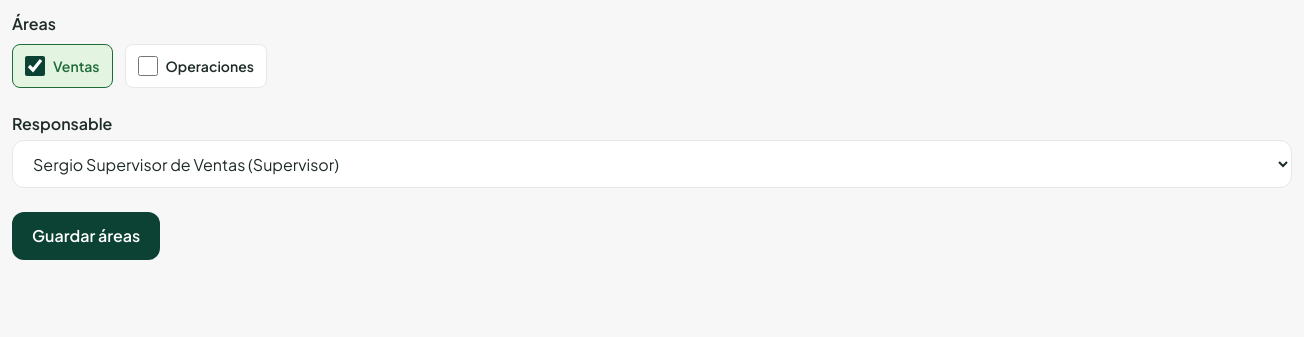
ChangeAreasForm (spec 003, R3 a R5; plan 003, 6.2) › sin áreas: "Elegí al menos un área." y no envía
expect the element "Áreas" is shown: met, box [12,13,267,88]
expect the dropdown labelled "Responsable" is enabled: met, box [12,140,1292,188]
Click the checkbox labelled "Ventas".
click(35, 66)  # box [25,56,45,76]
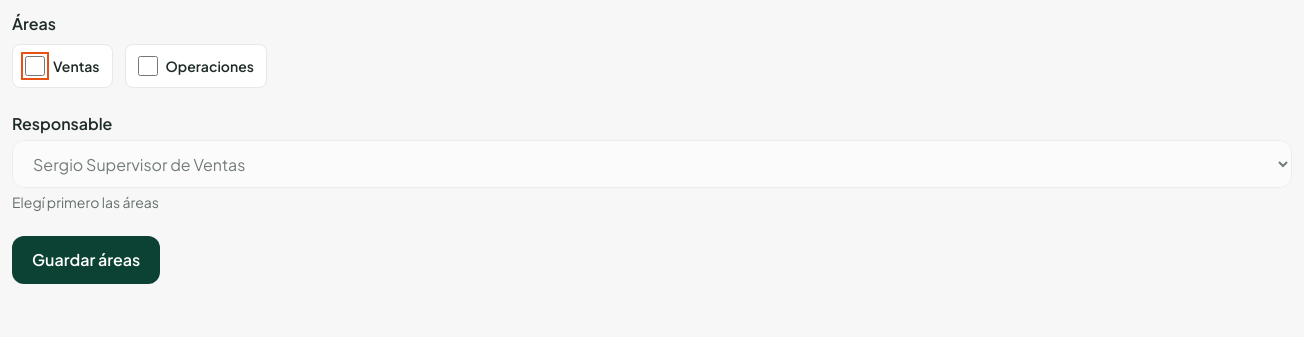
Click the button "Guardar áreas".
click(86, 260)  # box [12,236,160,284]
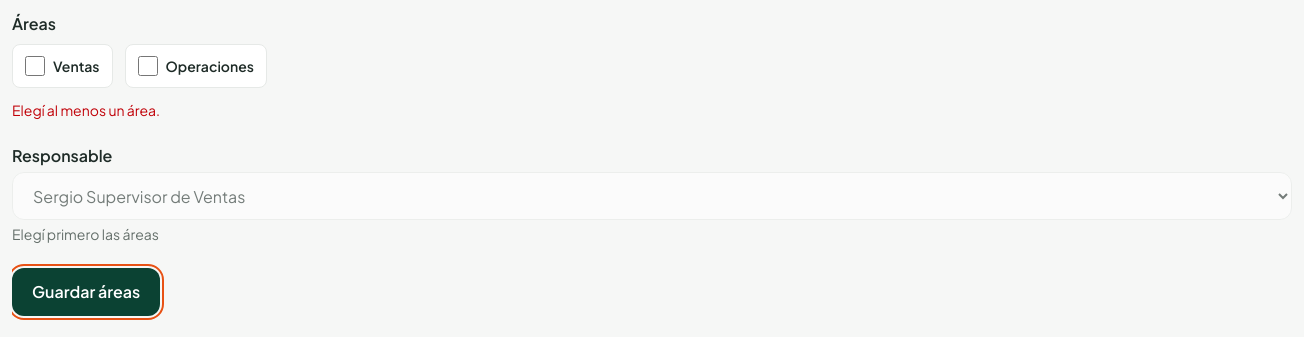
expect the text "Elegí al menos un área." is shown: met, box [12,101,160,119]
